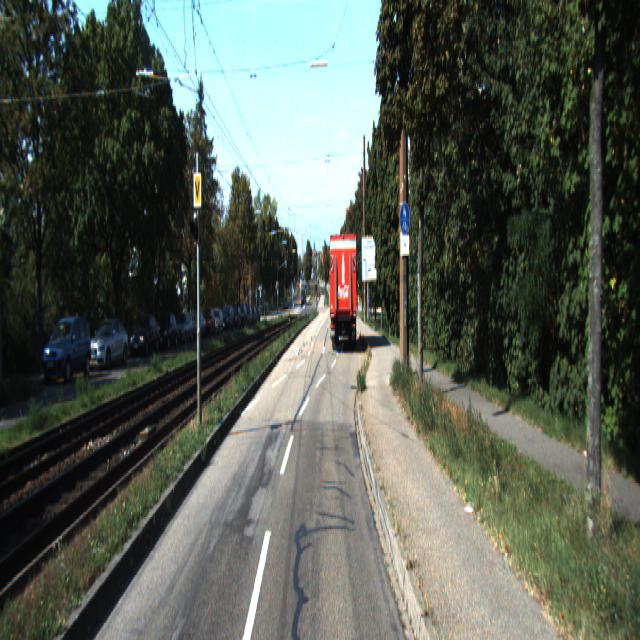Car: (327, 231, 358, 354), (42, 312, 94, 384), (84, 317, 130, 372), (129, 312, 161, 358), (154, 309, 178, 348), (172, 310, 193, 344), (199, 308, 215, 339)
